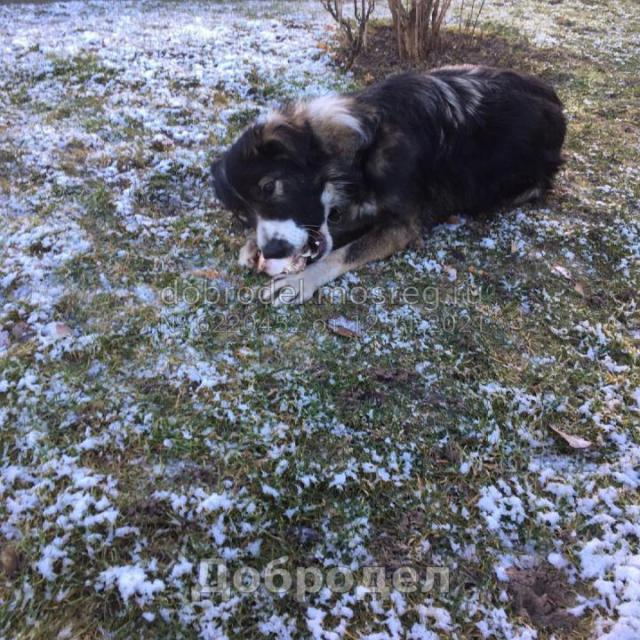dog: (202, 57, 580, 313)
